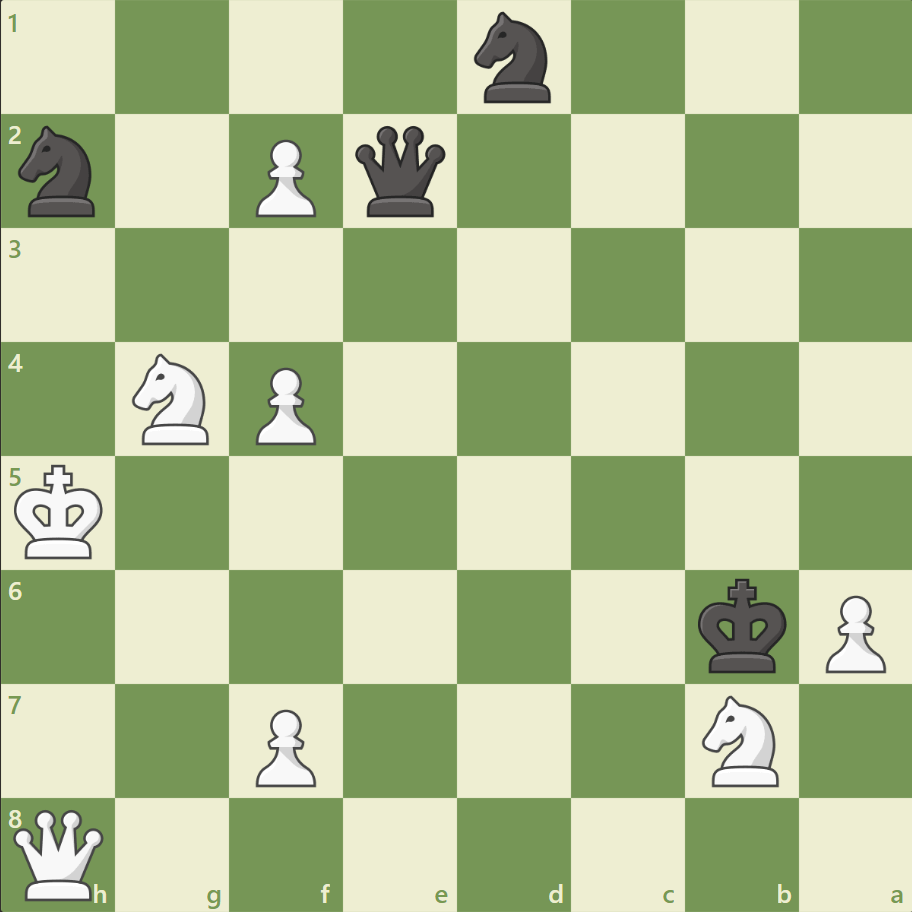K: (11, 458, 111, 566)
N: (124, 348, 222, 450), (692, 688, 789, 791)
P: (247, 700, 322, 791), (247, 359, 322, 450), (247, 132, 322, 223), (815, 586, 889, 677)
Q: (10, 804, 109, 903)
k: (692, 571, 792, 679)
n: (465, 7, 562, 110), (11, 121, 108, 223)
q: (351, 122, 450, 222)
